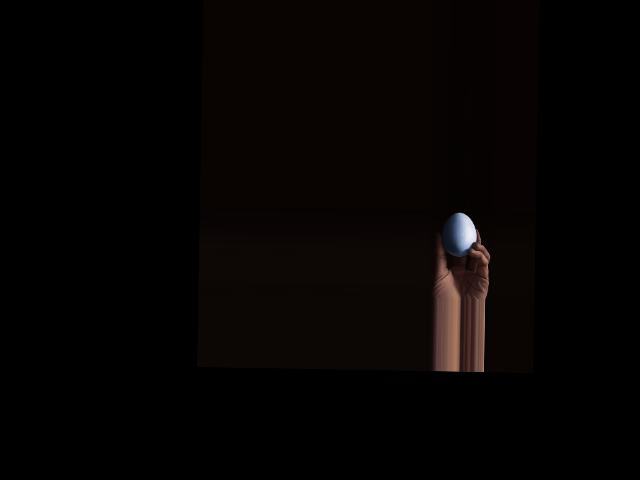egg: (442, 211, 477, 256)
